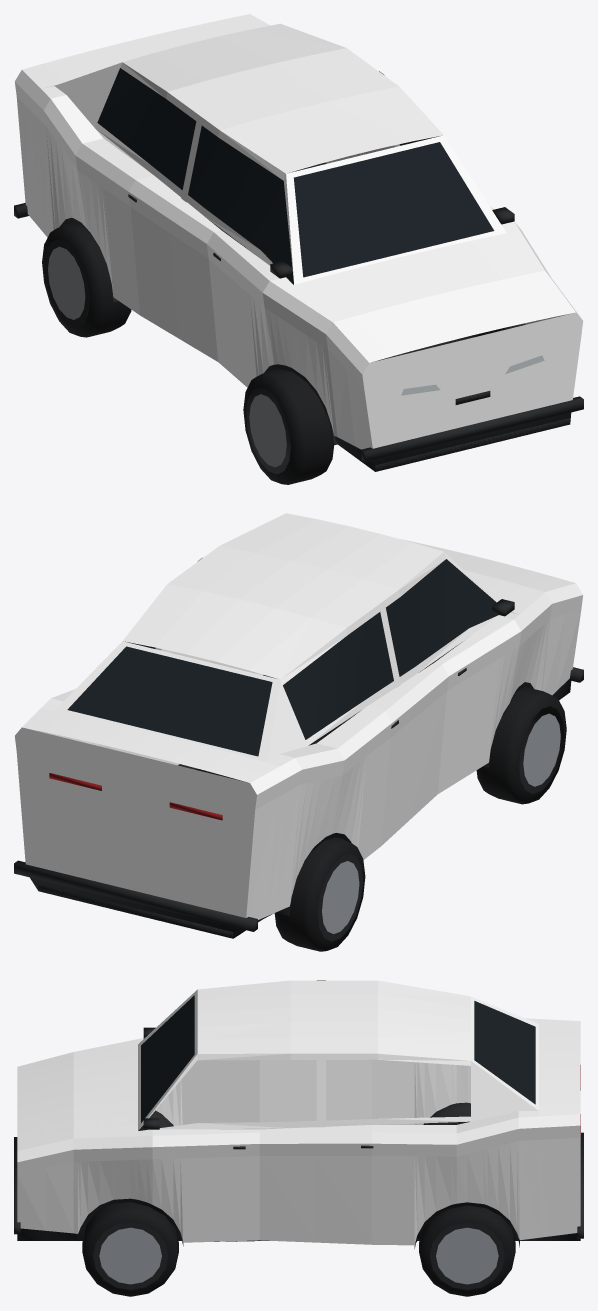
The model's file is ridgeway_penhasco.glb.
The picture shows the model from 3 angles, top to bottom: view 1: azimuth 30°, elevation 25°; view 2: azimuth 150°, elevation 25°; view 3: azimuth 270°, elevation 25°; orthographic projection. The views are drawn at different scales.
Parts seen in each view (by area): view 1: Body_Paint, Body_Details, Mount_FrontLeft_Wheel_Details, Mount_RearLeft_Wheel_Details; view 2: Body_Paint, Body_Details, Mount_FrontLeft_Wheel_Details, Mount_RearLeft_Wheel_Details; view 3: Body_Paint, Body_Details, Mount_FrontRight_Wheel_Details, Mount_RearRight_Wheel_Details.
Part boxes in pixels (x1,y1,x2,y2): Body_Paint: [14, 14, 583, 449]; Body_Details: [14, 68, 583, 471]; Mount_FrontLeft_Wheel_Details: [243, 369, 333, 484]; Mount_RearLeft_Wheel_Details: [42, 222, 131, 337]; Body_Paint: [15, 513, 583, 919]; Body_Details: [14, 559, 583, 938]; Mount_FrontLeft_Wheel_Details: [476, 686, 566, 804]; Mount_RearLeft_Wheel_Details: [274, 837, 365, 951]; Body_Paint: [17, 980, 580, 1245]; Body_Details: [14, 995, 583, 1248]; Mount_FrontRight_Wheel_Details: [82, 1202, 178, 1296]; Mount_RearRight_Wheel_Details: [419, 1205, 515, 1296].
Size of the model in its own units: 2.14 by 2.04 by 4.61.
2 materials, 1 textured.
